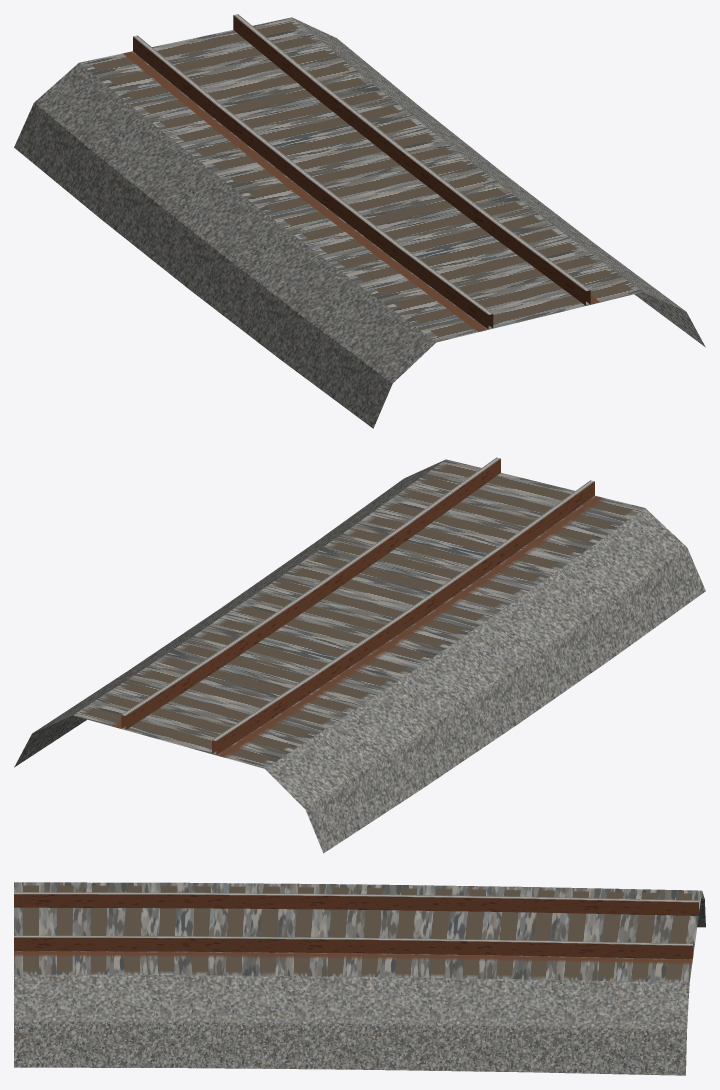
The model's file is rail_track_curve_r175_10m_r_v2_lod1.glb.
The picture shows the model from 3 angles, top to bottom: view 1: azimuth 30°, elevation 25°; view 2: azimuth 150°, elevation 25°; view 3: azimuth 270°, elevation 25°; orthographic projection. The views are drawn at different scales.
Visible parts, largest first — view 1: rail_track_curve_r175_10m_r_v2_lod1; view 2: rail_track_curve_r175_10m_r_v2_lod1; view 3: rail_track_curve_r175_10m_r_v2_lod1.
Part boxes in pixels (x1=…): rail_track_curve_r175_10m_r_v2_lod1: x1=14, y1=14, x2=705, y2=428; rail_track_curve_r175_10m_r_v2_lod1: x1=14, y1=457, x2=705, y2=853; rail_track_curve_r175_10m_r_v2_lod1: x1=14, y1=882, x2=705, y2=1075.
Bounding box in the file's own units: 5.43 × 1.27 × 10.14.
2 materials, 2 textured.
